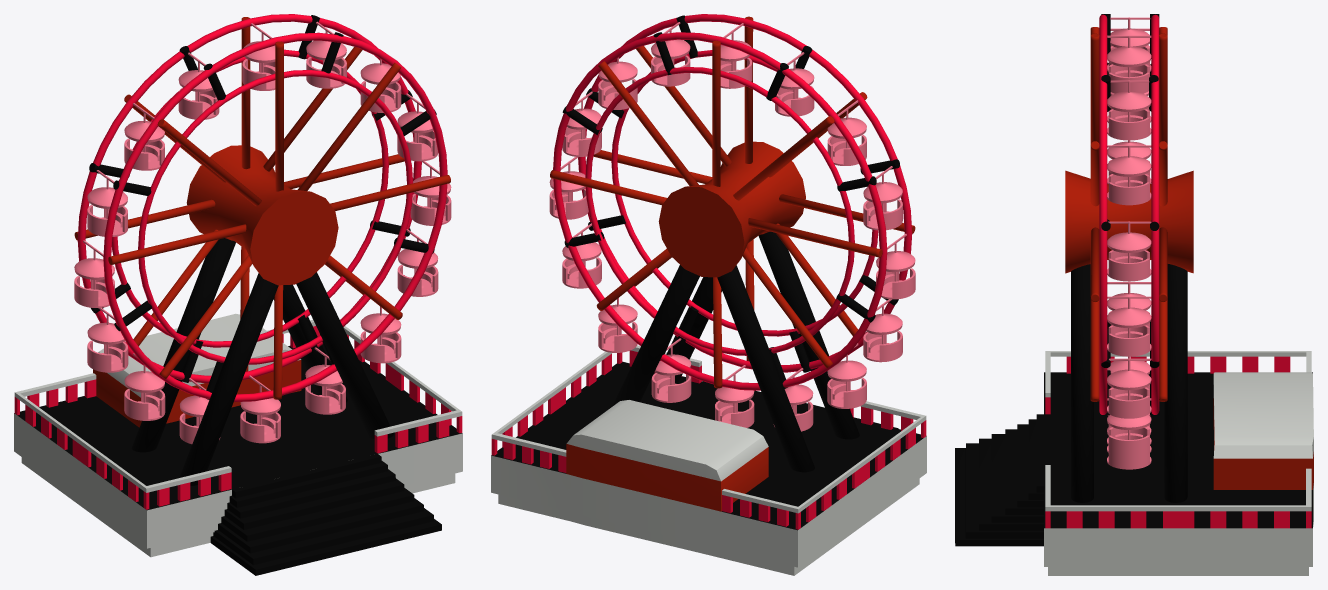
Rendered from Noria.fbx.
The picture shows the model from 3 angles, left to right: view 1: azimuth 30°, elevation 25°; view 2: azimuth 150°, elevation 25°; view 3: azimuth 270°, elevation 25°; orthographic projection. The views are drawn at different scales.
Visible parts, largest first — view 1: Plataform_Cube.001, Stairs_Cube.002, Union_Cylinder.023, Wall_Cube.003, Wheel2_Torus.001, Wheel1_Torus, Wheel2.001_Torus.002, Brazo_noria.001_Cylinder.020, Brazo_noria_Cylinder.019, Brazo_noria.003_Cylinder.022, Wheel1.001_Torus.003, Cabina1.013_Cylinder.013 (+29 smaller); view 2: Plataform_Cube.001, Union_Cylinder.023, Wall_Cube.003, Wheel1_Torus, Brazo_noria.003_Cylinder.022, Wheel2_Torus.001, Wheel1.001_Torus.003, Brazo_noria.001_Cylinder.020, Brazo_noria.002_Cylinder.021, Wheel2.001_Torus.002, Cabina1.013_Cylinder.013, Cabina1.011_Cylinder.011 (+28 smaller); view 3: Plataform_Cube.001, Stairs_Cube.002, Wall_Cube.003, Union_Cylinder.023, Brazo_noria.002_Cylinder.021, Brazo_noria_Cylinder.019, Wheel2_Torus.001, Wheel1_Torus, Cabina1.008_Cylinder.007, Cabina1.004_Cylinder.003, Cabina1.001_Cylinder.000, Cabina1.009_Cylinder.009 (+15 smaller).
Boxes of the visible parts, left/top/right/bottom form: Plataform_Cube.001: left=14, top=313, right=462, bottom=557; Stairs_Cube.002: left=210, top=454, right=441, bottom=575; Union_Cylinder.023: left=186, top=145, right=338, bottom=285; Wall_Cube.003: left=14, top=319, right=462, bottom=509; Wheel2_Torus.001: left=103, top=32, right=447, bottom=401; Wheel1_Torus: left=77, top=14, right=421, bottom=383; Wheel2.001_Torus.002: left=138, top=70, right=412, bottom=364; Brazo_noria.001_Cylinder.020: left=179, top=273, right=278, bottom=485; Brazo_noria_Cylinder.019: left=296, top=272, right=393, bottom=438; Brazo_noria.003_Cylinder.022: left=131, top=238, right=235, bottom=452; Wheel1.001_Torus.003: left=112, top=49, right=388, bottom=347; Cabina1.013_Cylinder.013: left=124, top=353, right=165, bottom=420; Plataform_Cube.001: left=491, top=361, right=926, bottom=575; Union_Cylinder.023: left=658, top=141, right=805, bottom=277; Wall_Cube.003: left=491, top=345, right=926, bottom=529; Wheel1_Torus: left=553, top=32, right=887, bottom=390; Brazo_noria.003_Cylinder.022: left=717, top=265, right=814, bottom=472; Wheel2_Torus.001: left=578, top=14, right=912, bottom=372; Wheel1.001_Torus.003: left=585, top=67, right=854, bottom=355; Brazo_noria.001_Cylinder.020: left=758, top=231, right=859, bottom=439; Brazo_noria.002_Cylinder.021: left=612, top=265, right=699, bottom=406; Wheel2.001_Torus.002: left=611, top=50, right=878, bottom=336; Cabina1.013_Cylinder.013: left=827, top=343, right=866, bottom=408; Cabina1.011_Cylinder.011: left=863, top=299, right=902, bottom=362; Plataform_Cube.001: left=1044, top=372, right=1313, bottom=575; Stairs_Cube.002: left=955, top=414, right=1044, bottom=546; Wall_Cube.003: left=1045, top=351, right=1311, bottom=528; Union_Cylinder.023: left=1065, top=170, right=1193, bottom=273; Brazo_noria.002_Cylinder.021: left=1164, top=264, right=1187, bottom=502; Brazo_noria_Cylinder.019: left=1071, top=264, right=1093, bottom=502; Wheel2_Torus.001: left=1099, top=14, right=1107, bottom=414; Wheel1_Torus: left=1151, top=14, right=1159, bottom=414; Cabina1.008_Cylinder.007: left=1107, top=296, right=1151, bottom=356; Cabina1.004_Cylinder.003: left=1107, top=145, right=1151, bottom=205; Cabina1.001_Cylinder.000: left=1107, top=221, right=1151, bottom=281; Cabina1.009_Cylinder.009: left=1107, top=358, right=1151, bottom=418.
Size of the model in its own units: 5471 by 6527 by 4537.
